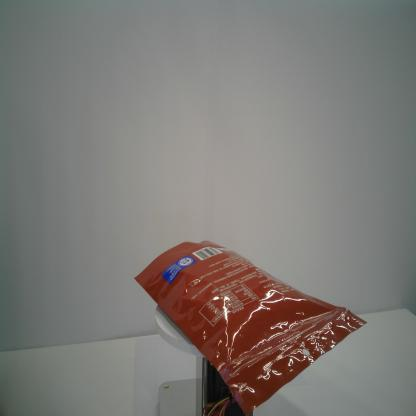Dried Food: (133, 237, 370, 415)
